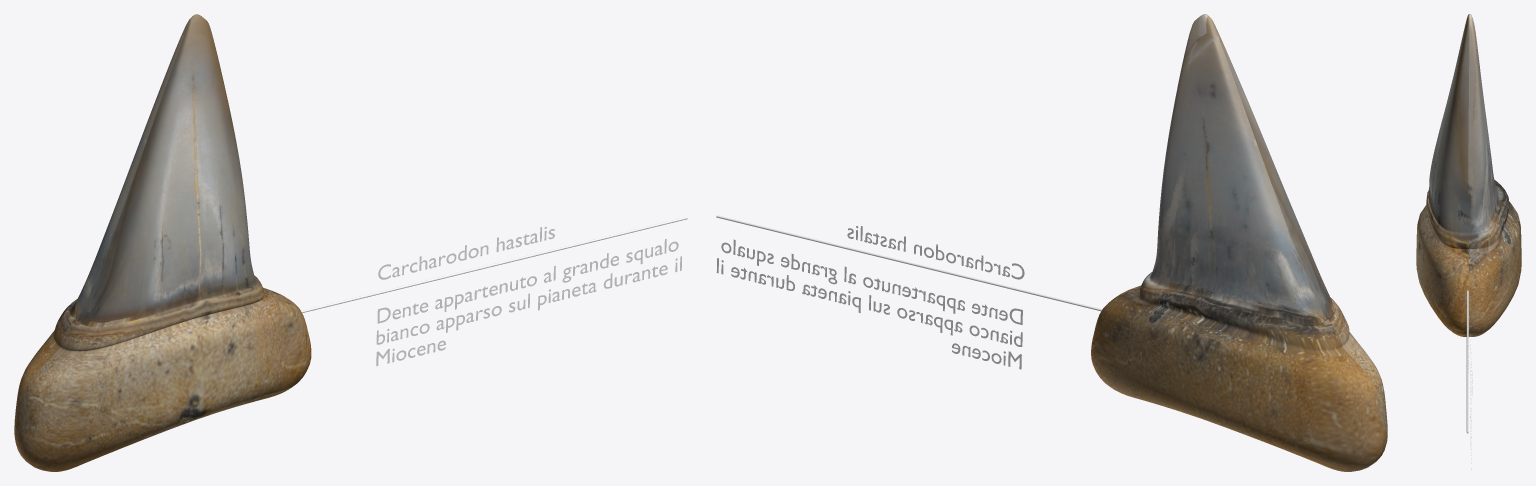
Rendered from Dente.gltf.
3 renders of one model, left to right at view 1: azimuth 30°, elevation 25°; view 2: azimuth 150°, elevation 25°; view 3: azimuth 270°, elevation 25°, orthographic. The views are drawn at different scales.
Visible parts, largest first — view 1: Superficie_di_Suddivisione_1, Text, riga; view 2: Superficie_di_Suddivisione_1, Text, riga; view 3: Superficie_di_Suddivisione_1, riga.
Boxes of the visible parts, <box> form: Superficie_di_Suddivisione_1: <box>14,14,311,471</box>; Text: <box>376,227,681,366</box>; riga: <box>301,217,687,312</box>; Superficie_di_Suddivisione_1: <box>1091,14,1387,471</box>; Text: <box>716,226,1024,369</box>; riga: <box>716,215,1102,311</box>; Superficie_di_Suddivisione_1: <box>1416,14,1521,336</box>; riga: <box>1466,290,1468,433</box>.
Bounding box in the file's own units: 6.41 × 3.86 × 1.17.
Materials: 2 (1 with a texture image).
